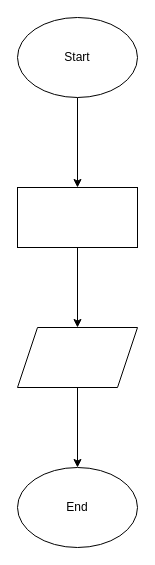
Some shapes in this 155 by 565 pixel diagram are drawn without their labels. Each missing label, with the centre of its shape:
Output fristline: [77,357]
Readfile: [77,217]
